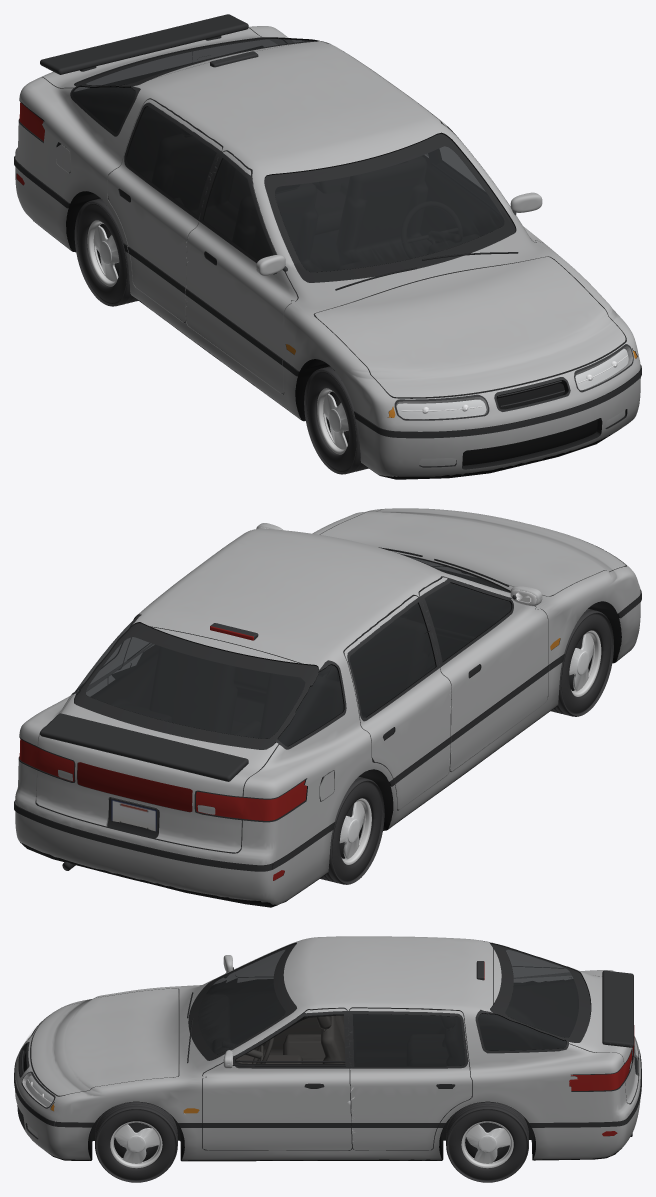
Rendered from car_hero_v1.glb.
3 renders of one model, top to bottom at view 1: azimuth 30°, elevation 25°; view 2: azimuth 150°, elevation 25°; view 3: azimuth 270°, elevation 25°, orthographic. The views are drawn at different scales.
Parts seen in each view (by area): view 1: body, wheel_FR, wheel_RR; view 2: body, wheel_RR, wheel_FR; view 3: body, wheel_FL, wheel_RL.
Part boxes in pixels (box(x1,y1,x2,y2)): body: box(14, 14, 641, 479); wheel_FR: box(304, 366, 368, 474); wheel_RR: box(74, 198, 138, 306); body: box(14, 508, 641, 907); wheel_RR: box(320, 776, 384, 884); wheel_FR: box(550, 609, 613, 716); body: box(14, 936, 641, 1161); wheel_FL: box(95, 1102, 177, 1182); wheel_RL: box(446, 1102, 528, 1182).
Bounding box in the file's own units: 1.9 × 1.41 × 4.78.
Materials: 12 (1 with a texture image).
